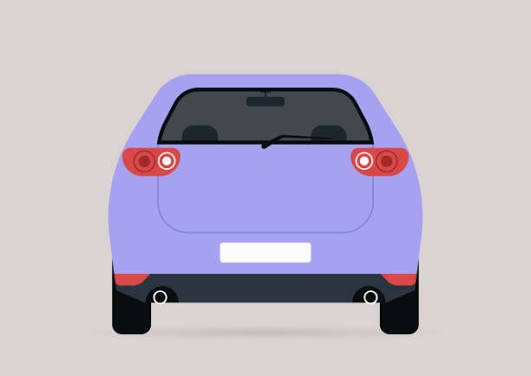car: (102, 71, 426, 343)
